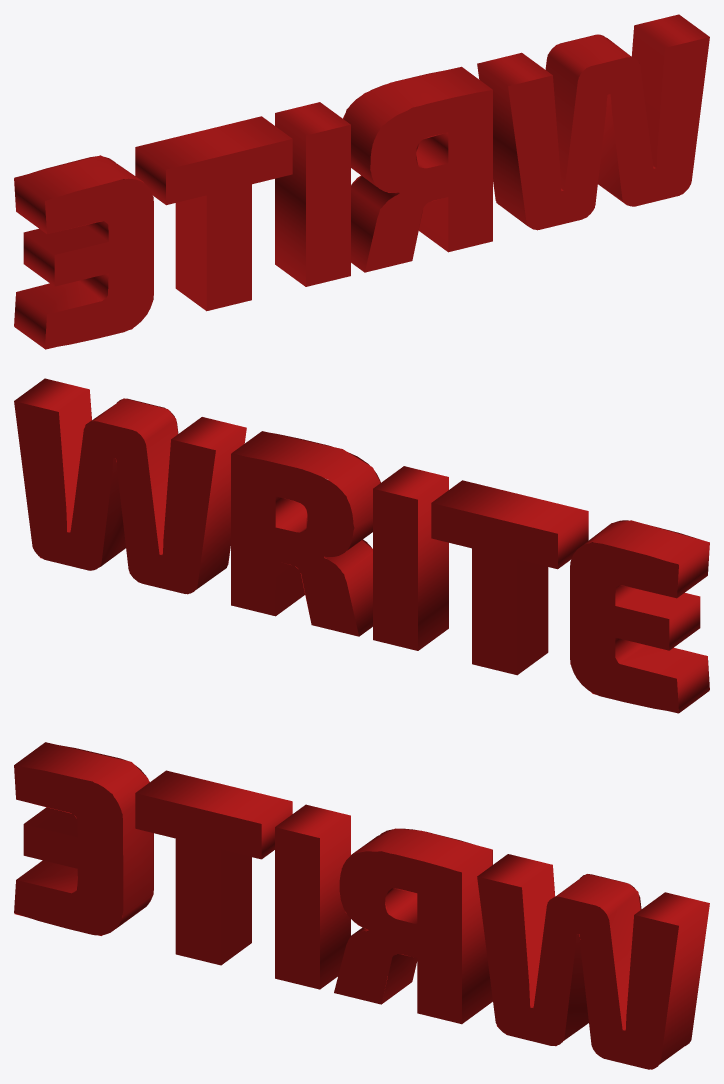
The model's file is write.fbx.
The picture shows the model from 3 angles, top to bottom: view 1: azimuth 30°, elevation 25°; view 2: azimuth 150°, elevation 25°; view 3: azimuth 330°, elevation 25°; orthographic projection.
Visible parts, largest first — view 1: Text; view 2: Text; view 3: Text.
Part boxes in pixels (left/top/right/bottom): Text: left=14, top=14, right=709, bottom=349; Text: left=14, top=378, right=709, bottom=713; Text: left=14, top=742, right=709, bottom=1069.
Size of the model in its own units: 9.93 by 2.2 by 0.8.
